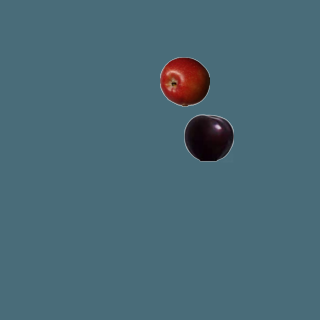Apple Braeburn: (159, 56, 209, 106)
Cherry Wax Black: (183, 112, 233, 162)
